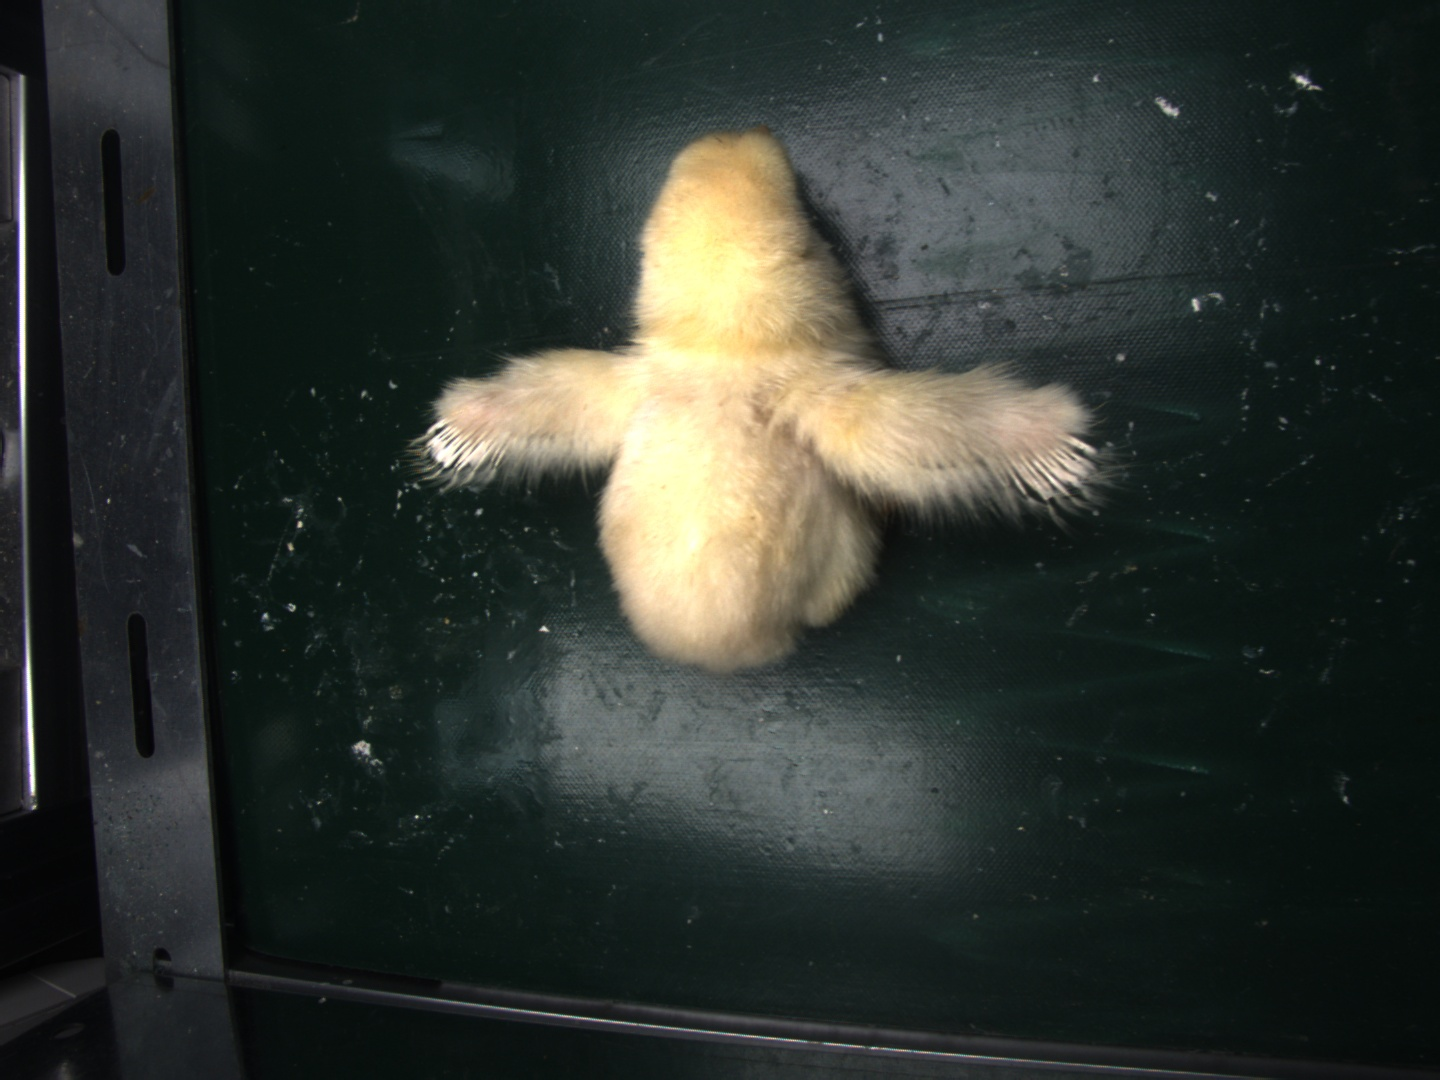male: (1007, 434, 1098, 501)
